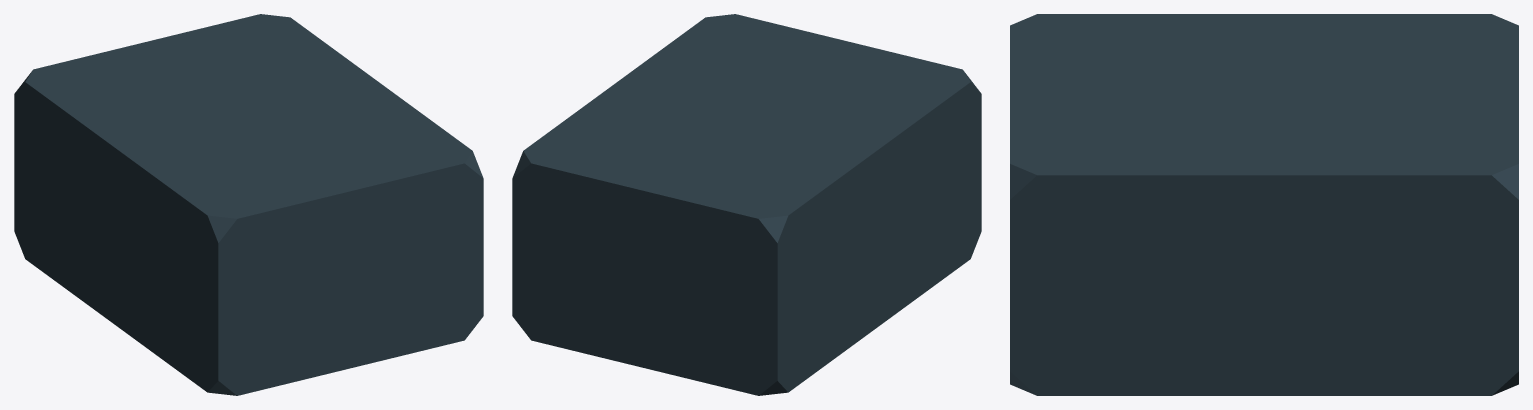
File: compute_case_concept.dae
The picture shows the model from 3 angles, left to right: view 1: azimuth 30°, elevation 25°; view 2: azimuth 150°, elevation 25°; view 3: azimuth 270°, elevation 25°; orthographic projection. The views are drawn at different scales.
Parts seen in each view (by area): view 1: node0; view 2: node0; view 3: node0.
Part boxes in pixels (x1,y1,x2,y2): node0: (14, 14, 483, 395); node0: (512, 14, 981, 395); node0: (1010, 14, 1518, 395).
Bounding box in the file's own units: 0.21 × 0.28 × 0.134.
